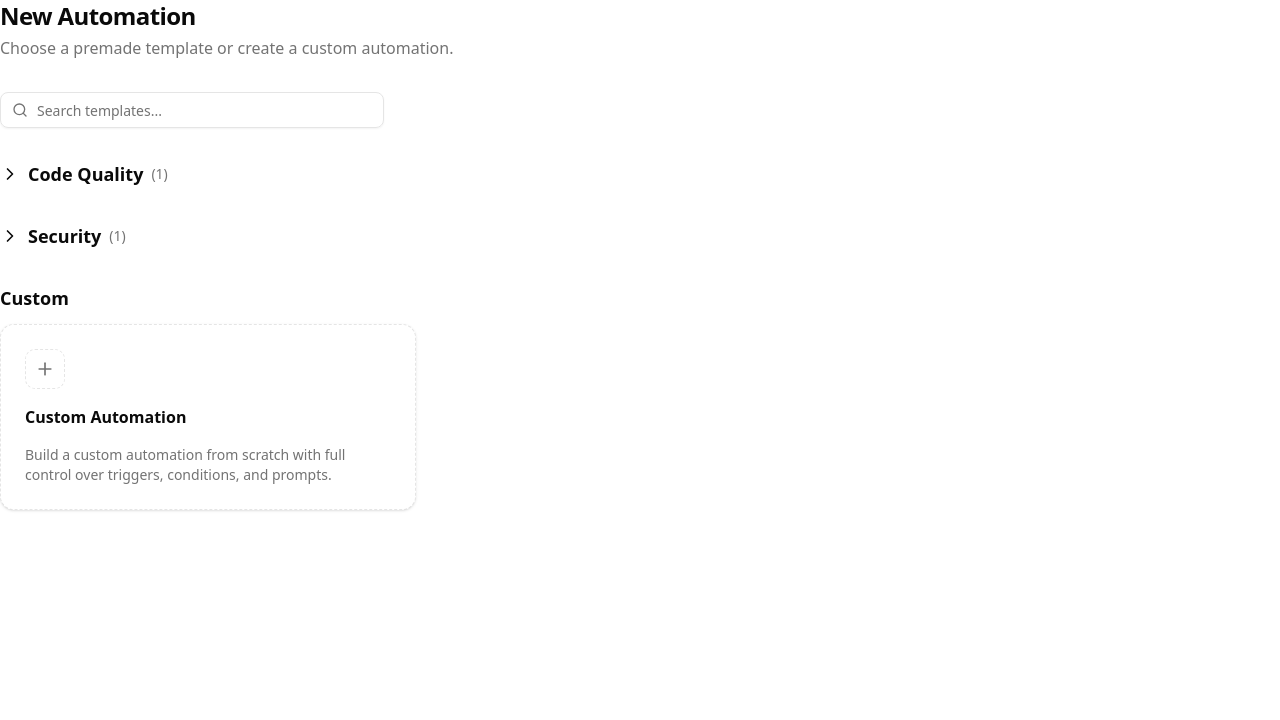
Test: AutomationNewPage › should open repo select dialog when template card is clicked
The width and height of the screenshot is (1280, 720).
# Expand category first
Click the text "Code Quality".
click(86, 174)  # box top-left (28, 160), bottom-right (143, 188)
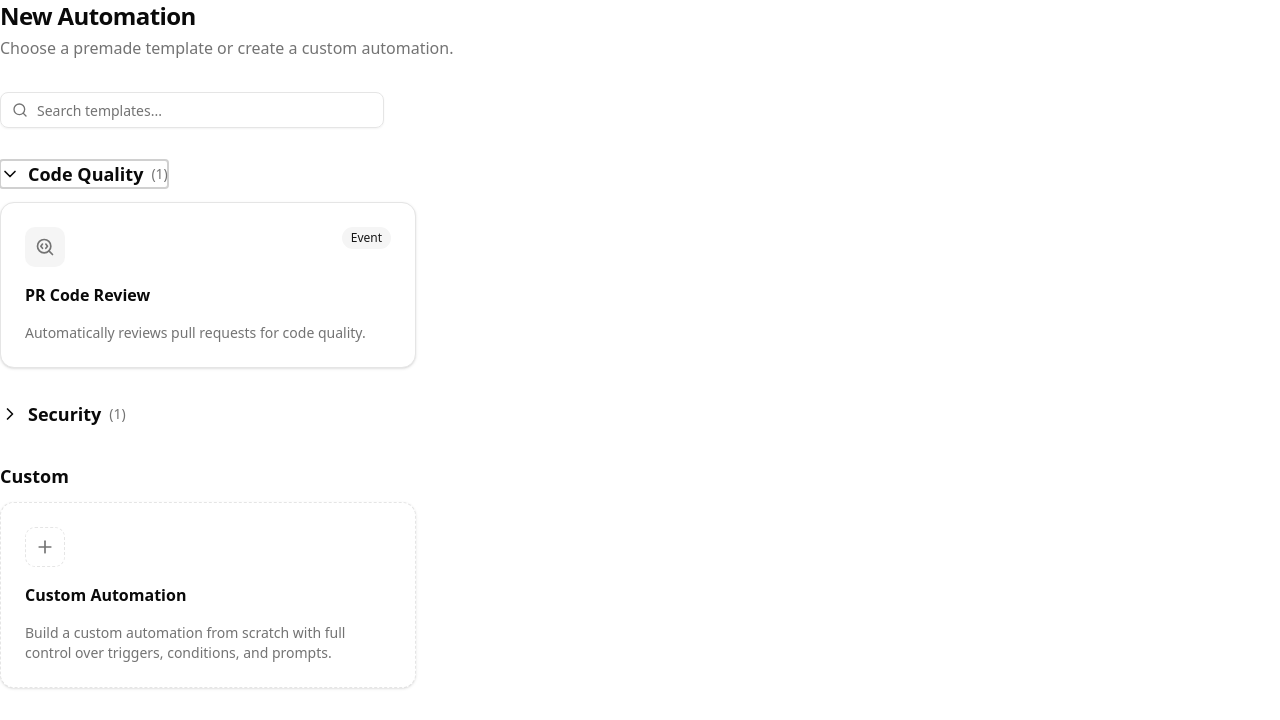
Click the text "PR Code Review".
click(88, 295)  # box top-left (25, 284), bottom-right (150, 306)
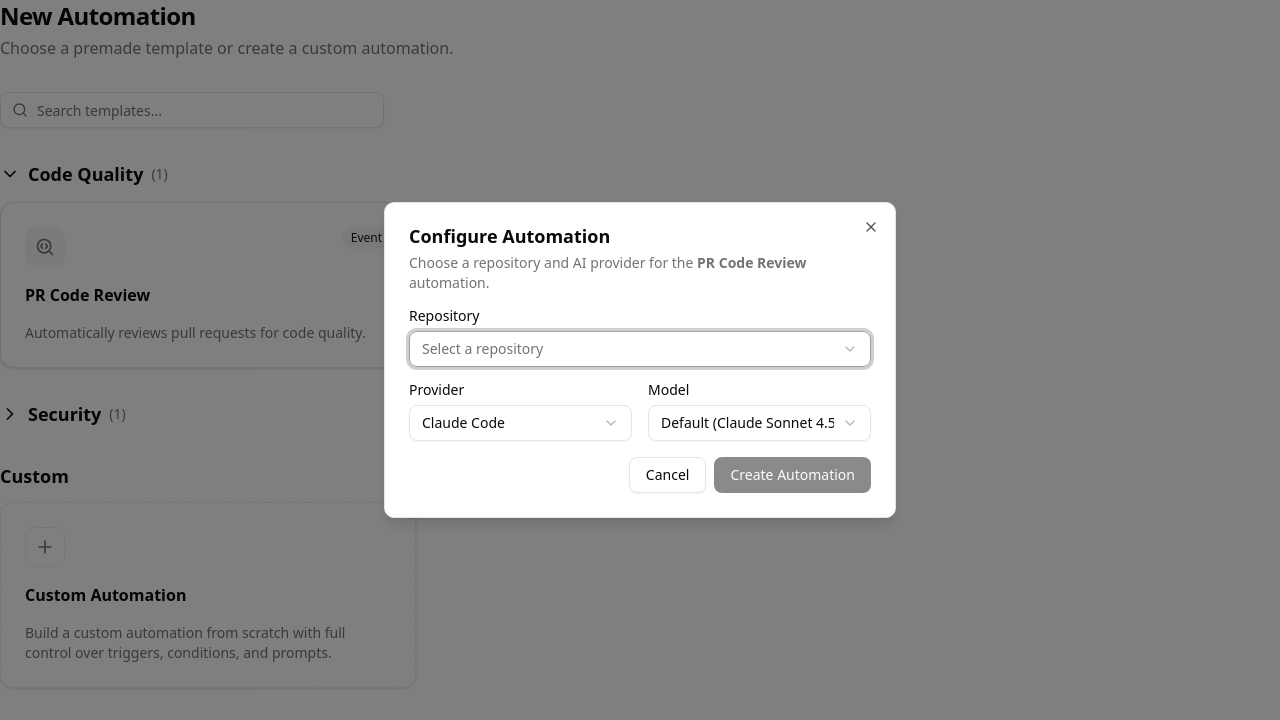
Expected: the heading "Configure Automation" is shown, top-left (409, 224), bottom-right (610, 248)
